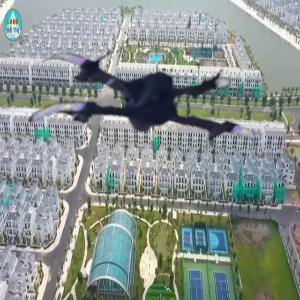drone: (29, 12, 252, 235)
